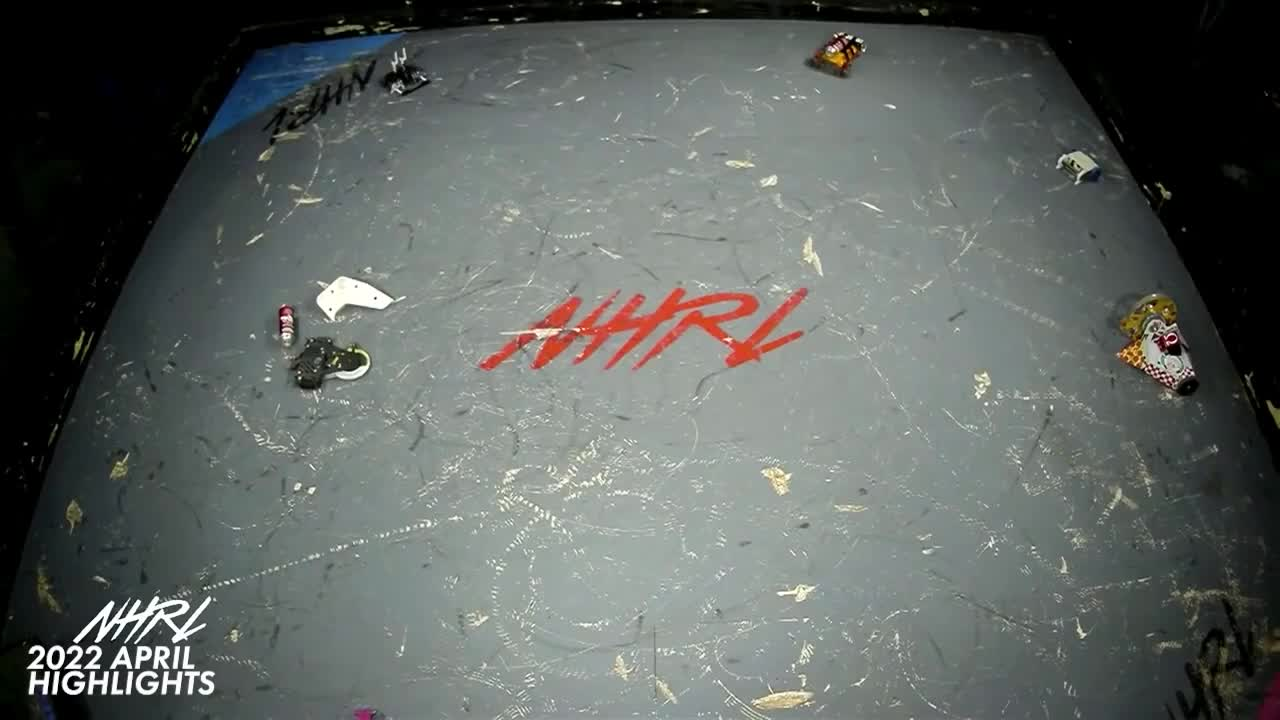combatbot: (1113, 291, 1199, 399), (287, 337, 370, 396), (807, 32, 868, 77), (1053, 149, 1104, 186), (384, 61, 433, 95)
debris: (315, 274, 399, 321), (273, 303, 300, 348)
